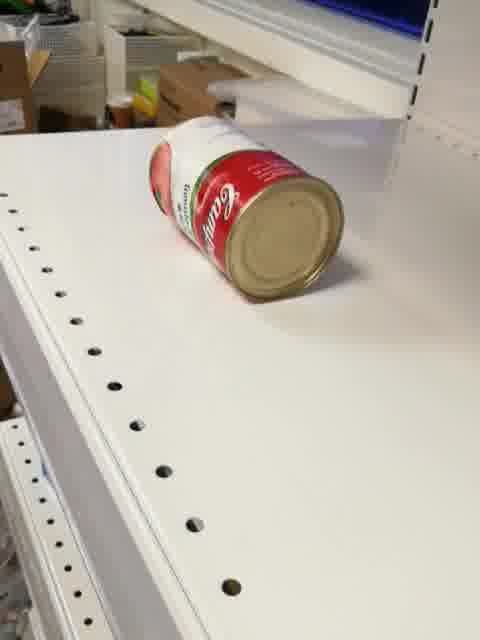tomatosoup: (148, 115, 343, 305)
